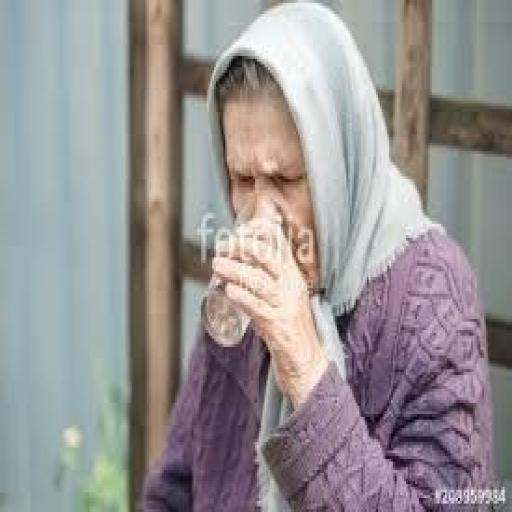drinking: (199, 204, 283, 347)
